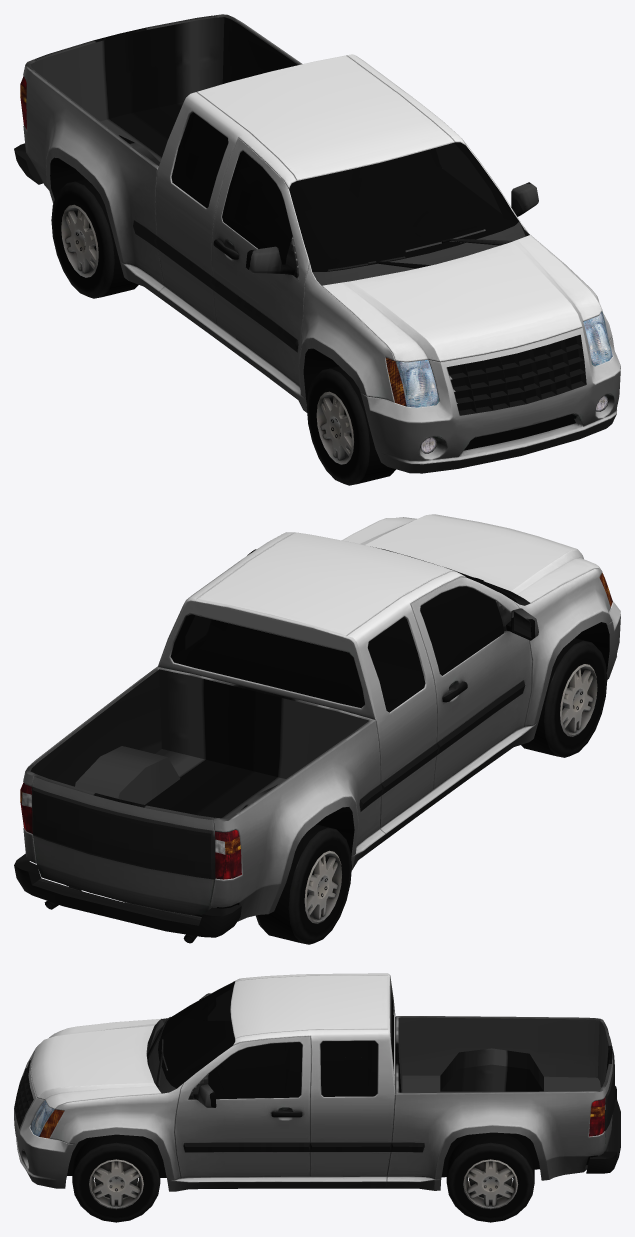
File: pickup.glb
3 views of the same model, one above another, from view 1: azimuth 30°, elevation 25°; view 2: azimuth 150°, elevation 25°; view 3: azimuth 270°, elevation 25° (orthographic). The views are drawn at different scales.
Visible parts, largest first — view 1: Pickup Body, Wheel_E002, Wheel_E003; view 2: Pickup Body, Wheel_E003, Wheel_E002; view 3: Pickup Body, Wheel_E001, Wheel_E.
Part boxes in pixels (x1=…): Pickup Body: x1=14, y1=14, x2=620, y2=473; Wheel_E002: x1=306, y1=366, x2=395, y2=485; Wheel_E003: x1=51, y1=178, x2=138, y2=298; Pickup Body: x1=14, y1=514, x2=620, y2=943; Wheel_E003: x1=256, y1=824, x2=351, y2=944; Wheel_E002: x1=521, y1=638, x2=607, y2=757; Pickup Body: x1=14, y1=973, x2=620, y2=1191; Wheel_E001: x1=446, y1=1132, x2=534, y2=1222; Wheel_E: x1=72, y1=1134, x2=160, y2=1222.
Size of the model in its own units: 2.07 by 1.7 by 5.18.
4 materials, 3 textured.
